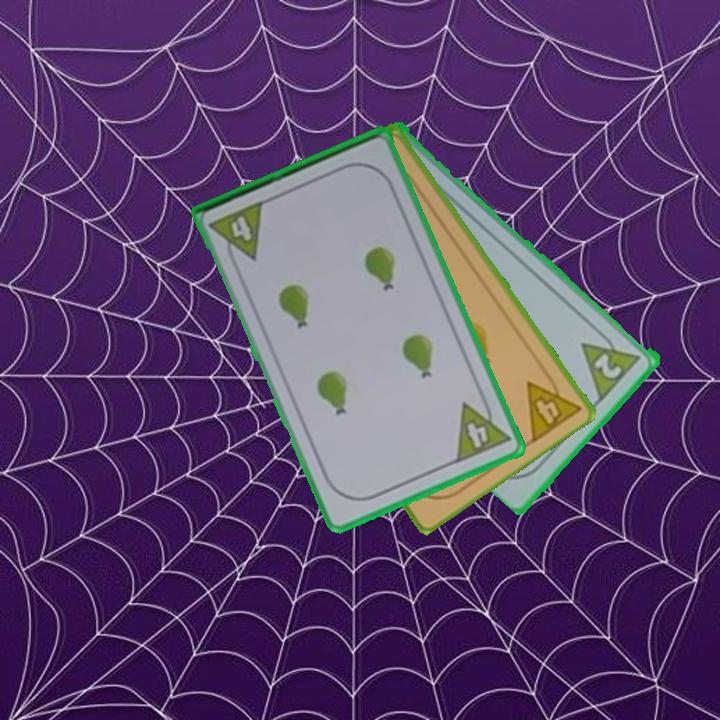2p: (591, 349, 625, 382)
4p: (523, 364, 584, 446), (452, 391, 513, 467), (206, 197, 268, 270)
